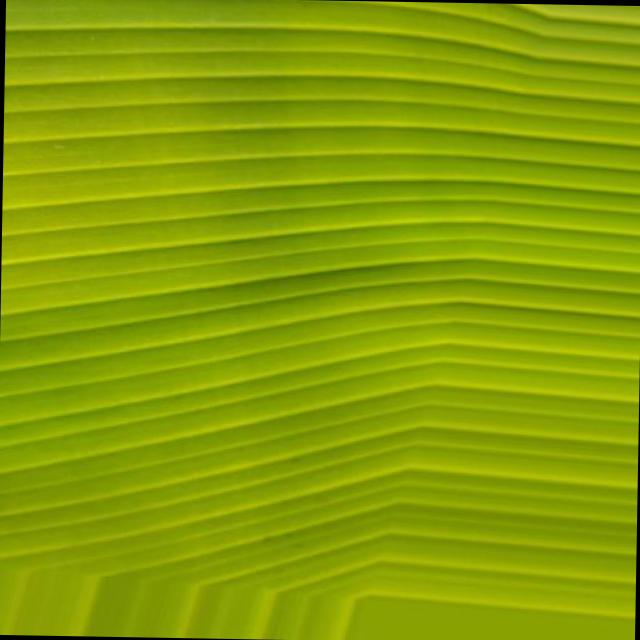Banana_Healthy: (111, 112, 524, 496)
